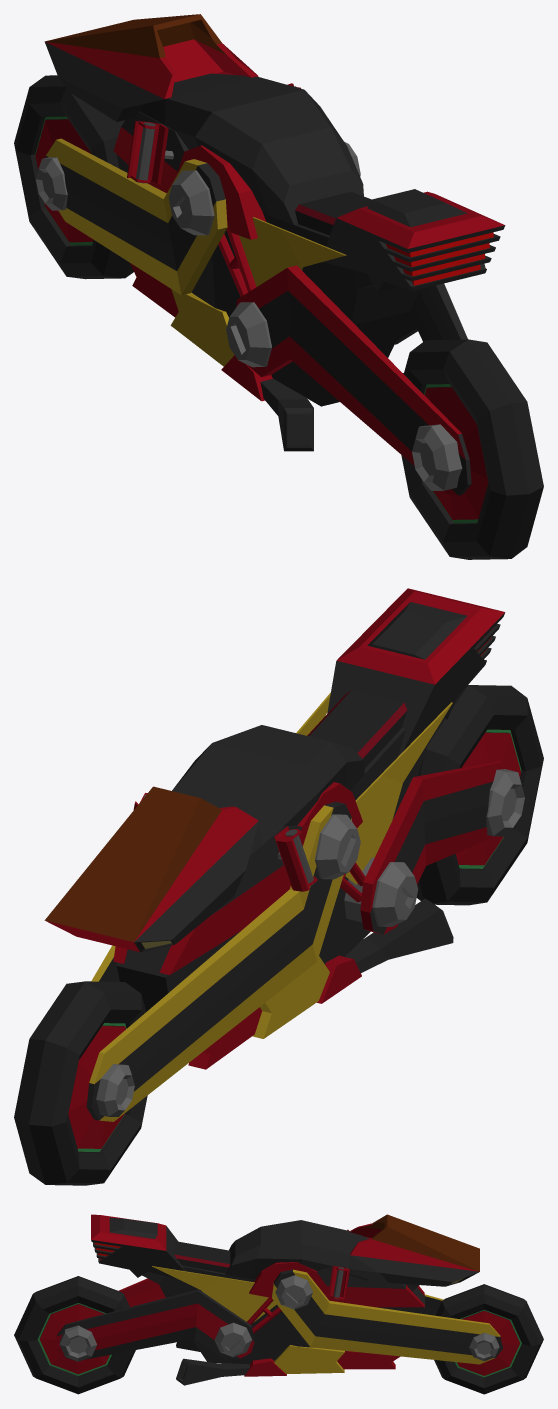
The model's file is BikeFUSION.fbx.
3 views of the same model, one above another, from view 1: azimuth 30°, elevation 25°; view 2: azimuth 150°, elevation 25°; view 3: azimuth 270°, elevation 25° (orthographic). The views are drawn at different scales.
Parts seen in each view (by area): view 1: Cube, Cylinder.004, Cube.010, Cube.004, Cube.003, Cube.006, Cylinder, Cube.024, Cube.022, Cube.017, Cylinder.002, Cube.005 (+10 smaller); view 2: Cube.003, Cube.004, Cube, Cylinder, Cube.006, Cylinder.004, Cube.010, Cube.024, Cube.002, Cube.022, Cube.019, Cylinder.003 (+7 smaller); view 3: Cube.001, Cube, Cylinder.004, Cube.005, Cylinder, Cube.003, Cube.006, Cube.023, Cube.021, Cube.014, Cube.002, Cube.009 (+9 smaller).
Part boxes in pixels (<box>): Cube: <box>117,73,419,406</box>; Cylinder.004: <box>401,339,543,559</box>; Cube.010: <box>236,265,471,495</box>; Cube.004: <box>45,138,227,295</box>; Cube.003: <box>44,14,258,121</box>; Cube.006: <box>323,189,505,291</box>; Cylinder: <box>14,75,133,279</box>; Cube.024: <box>113,111,266,239</box>; Cube.022: <box>239,217,346,286</box>; Cube.017: <box>170,289,234,366</box>; Cylinder.002: <box>412,424,462,490</box>; Cube.005: <box>394,283,467,344</box>; Cube.003: <box>44,786,258,951</box>; Cube.004: <box>86,801,351,1121</box>; Cube: <box>116,725,438,1011</box>; Cylinder: <box>14,981,147,1185</box>; Cube.006: <box>327,588,505,756</box>; Cylinder.004: <box>416,685,543,905</box>; Cube.010: <box>360,761,507,934</box>; Cube.024: <box>159,782,362,975</box>; Cube.002: <box>307,689,407,768</box>; Cube.022: <box>345,702,452,884</box>; Cube.019: <box>345,898,453,972</box>; Cylinder.003: <box>344,857,418,926</box>; Cube.001: <box>272,1269,502,1364</box>; Cube: <box>142,1220,424,1364</box>; Cylinder.004: <box>14,1276,135,1394</box>; Cube.005: <box>55,1289,254,1360</box>; Cylinder: <box>434,1284,543,1394</box>; Cube.003: <box>350,1214,479,1286</box>; Cube.006: <box>91,1214,185,1278</box>; Cube.023: <box>249,1262,424,1307</box>; Cube.021: <box>152,1266,276,1321</box>; Cube.014: <box>274,1345,344,1373</box>; Cube.002: <box>174,1241,230,1273</box>; Cube.009: <box>176,1358,249,1385</box>.
Size of the model in its own units: 141 by 240 by 667.
